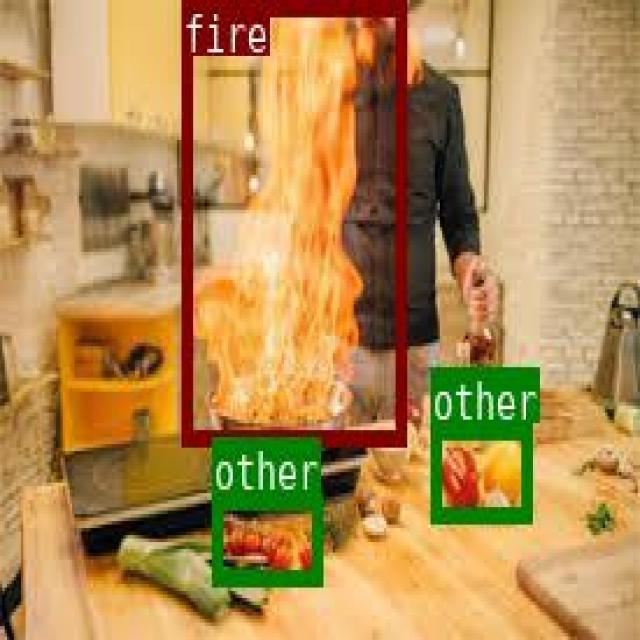fire: (180, 0, 404, 441)
